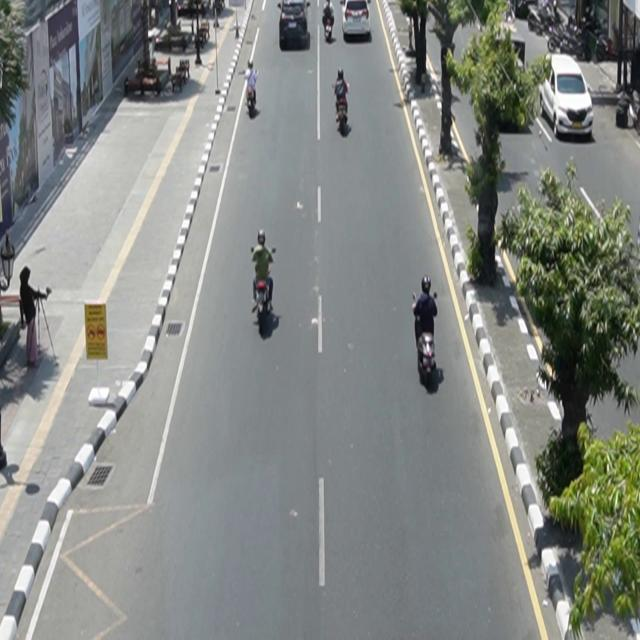car: (540, 54, 595, 140), (279, 1, 311, 50), (341, 1, 372, 40)
